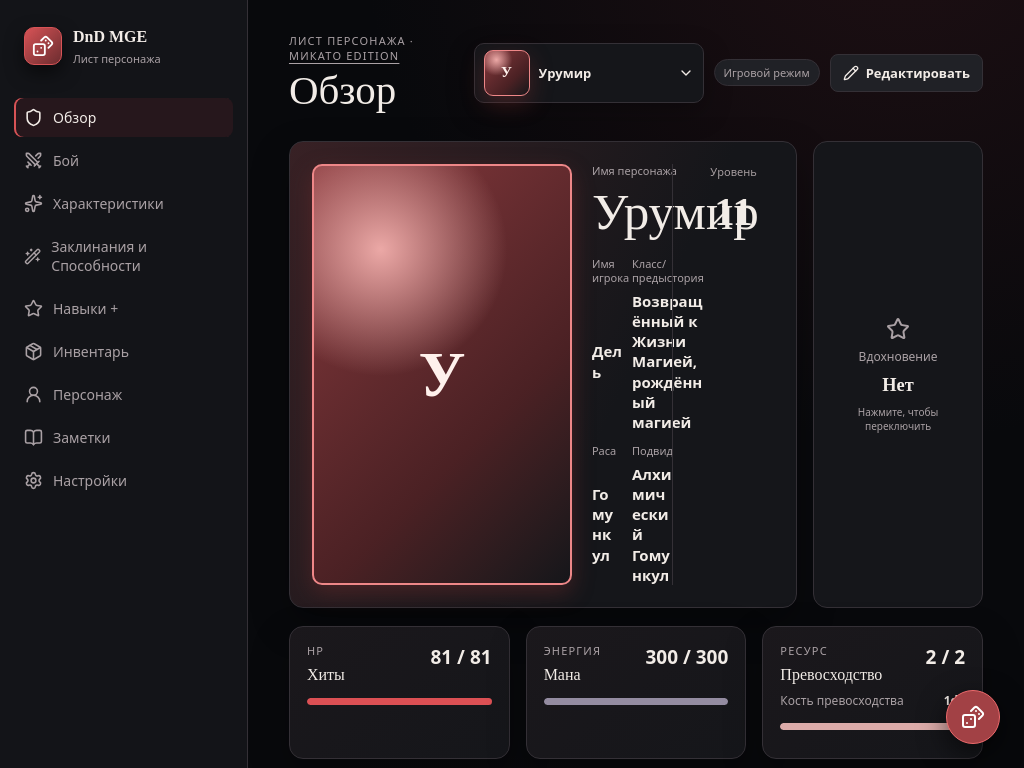
Scenario: игровые представления листа › создаёт нового персонажа как пустой лист, не копируя Урумира
This screenshot has width=1024, height=768.
Step 1. Click the button with class "character-switcher-button" → (589, 73), box [474,43,704,103]
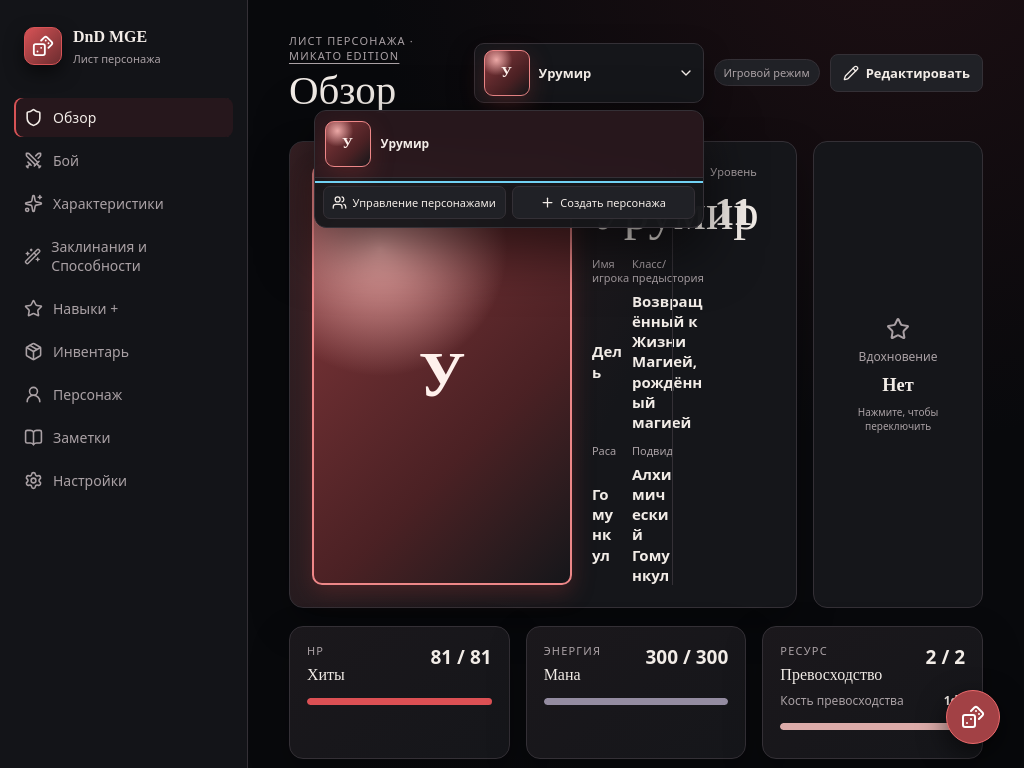
Step 2. Click the menu item "Создать персонажа" → (603, 202), box [512,186,695,219]
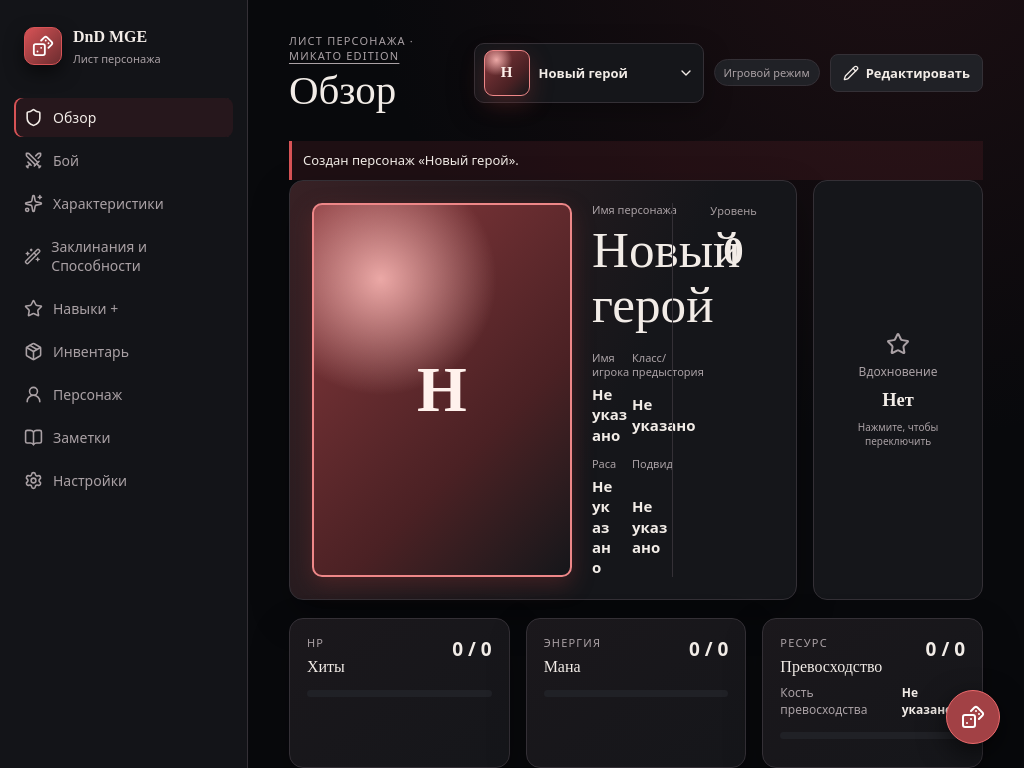
Check: the text "Новый герой" is shown, box [539,64,628,82]
